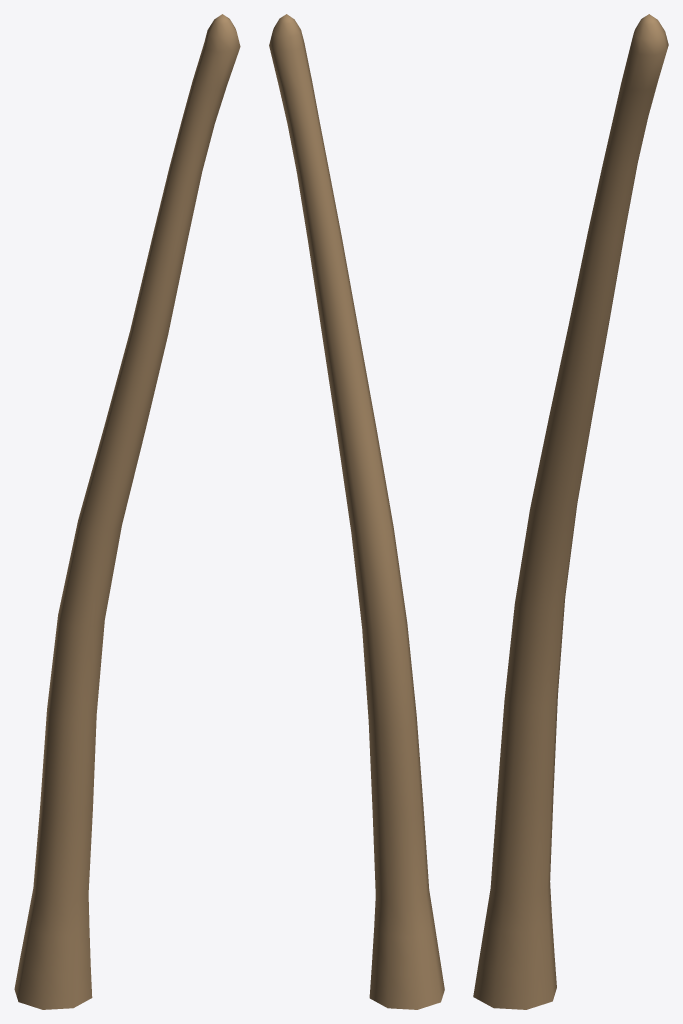
File: palm_tall.glb
3 views of the same model, side by side, from view 1: azimuth 30°, elevation 25°; view 2: azimuth 150°, elevation 25°; view 3: azimuth 330°, elevation 25° (orthographic). The views are drawn at different scales.
Parts seen in each view (by area): view 1: palm_tall; view 2: palm_tall; view 3: palm_tall.
Part boxes in pixels (bbox=[...]): palm_tall: bbox=[14, 14, 240, 1009]; palm_tall: bbox=[269, 14, 444, 1009]; palm_tall: bbox=[473, 14, 668, 1009].
Size of the model in its own units: 2.56 by 11.88 by 1.16.
